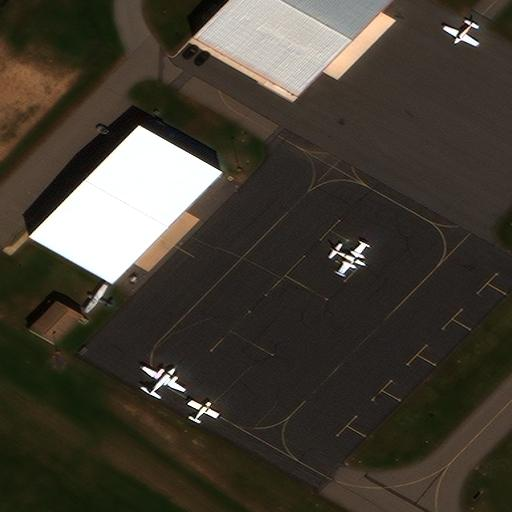Small Civil Transport: (143, 365, 187, 395), (330, 245, 371, 276), (442, 21, 476, 47), (85, 283, 113, 311), (191, 399, 220, 421)
